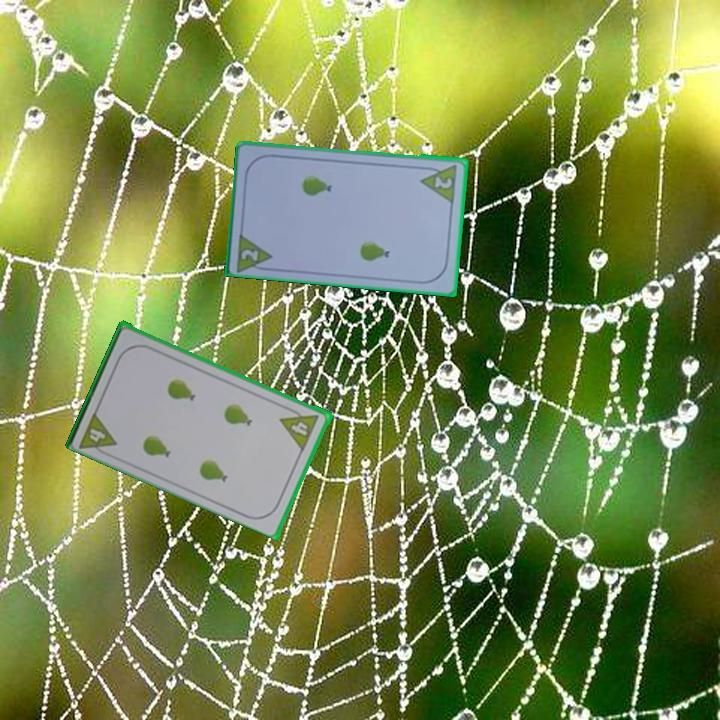2p: (417, 161, 460, 205), (237, 245, 261, 264)
4p: (76, 407, 120, 460), (277, 403, 322, 453)
